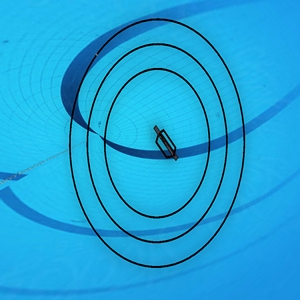circle: (68, 18, 249, 269)
submarine: (153, 122, 178, 160)
